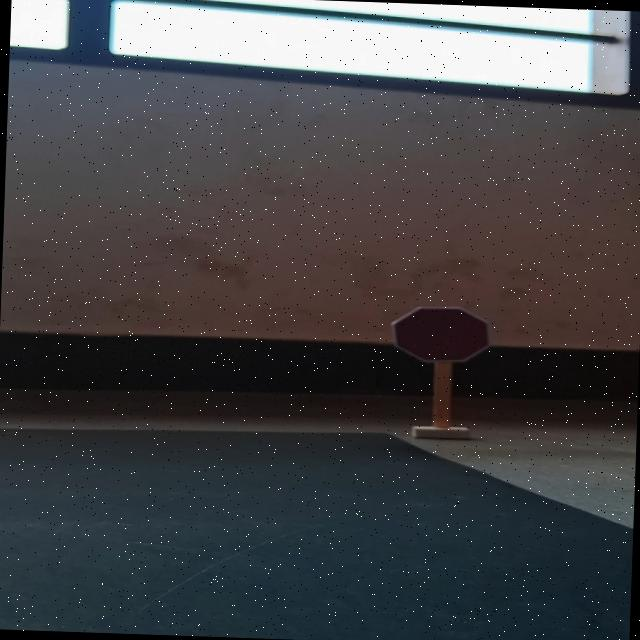Stop: (388, 304, 494, 364)
